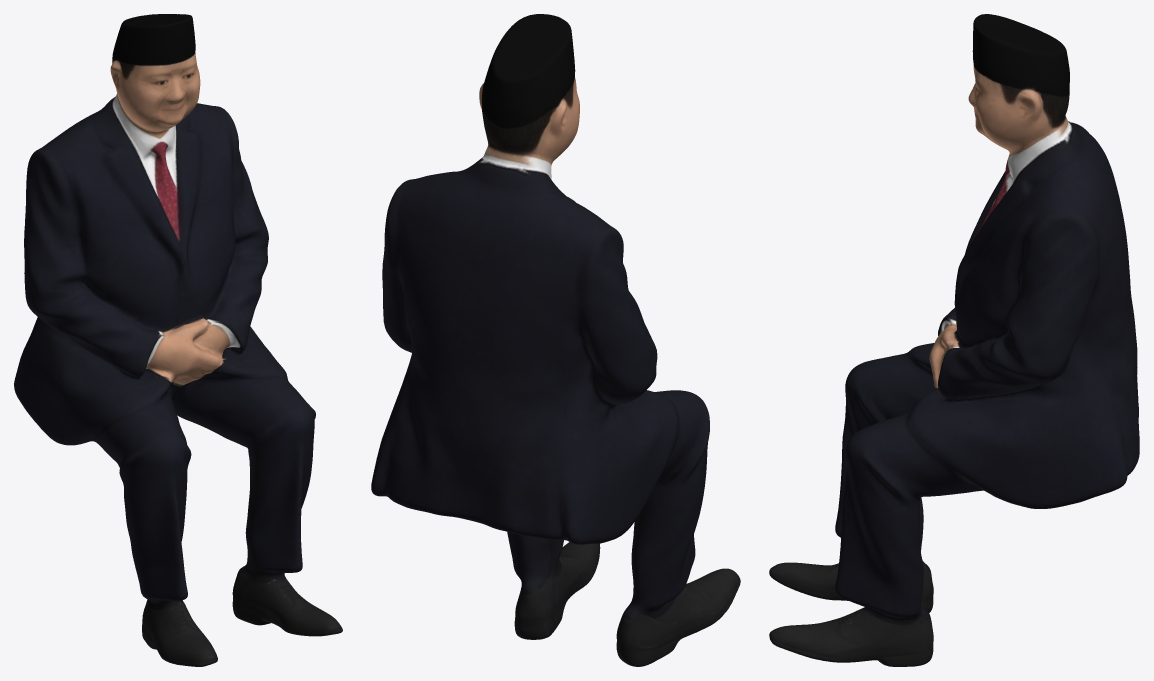
File: wowok.glb
The picture shows the model from 3 angles, left to right: view 1: azimuth 30°, elevation 25°; view 2: azimuth 150°, elevation 25°; view 3: azimuth 270°, elevation 25°; orthographic projection. The views are drawn at different scales.
Bounding box in the file's own units: 0.7933 × 1.9 × 1.04.
1 material, 1 textured.
